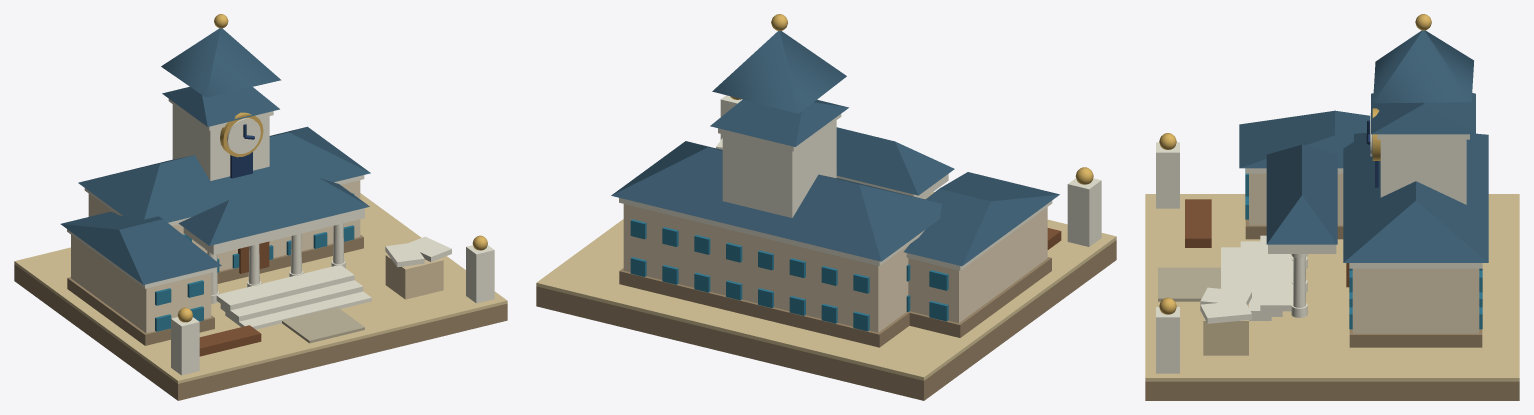
The model's file is university-lv2.glb.
3 renders of one model, left to right at view 1: azimuth 30°, elevation 25°; view 2: azimuth 150°, elevation 25°; view 3: azimuth 270°, elevation 25°, orthographic. The views are drawn at different scales.
Visible parts, largest first — view 1: foundation_sand, lecture_hall_roof_roof, foundation_stoneDark, portico_pediment_roof, library_wing_roof_roof, entrance_steps_white, library_wing_cream, tower_cap_roof, clock_tower_white, campus_gate_white, clock_tower_roof_roof, book_plinth_stone (+15 smaller); view 2: foundation_sand, lecture_hall_roof_roof, lecture_hall_cream, foundation_stoneDark, clock_tower_white, library_wing_roof_roof, library_wing_cream, tower_cap_roof, portico_pediment_roof, lecture_hall_windows_glass, lecture_hall_stoneDark, clock_tower_roof_roof (+5 smaller); view 3: foundation_sand, lecture_hall_roof_roof, lecture_hall_cream, foundation_stoneDark, portico_pediment_roof, tower_cap_roof, clock_tower_white, library_wing_roof_roof, entrance_steps_white, clock_tower_roof_roof, campus_gate_white, lecture_hall_stoneDark (+11 smaller).
Boxes of the visible parts, x1,y1,x2,y2 form: foundation_sand: (14, 193, 507, 383); lecture_hall_roof_roof: (78, 126, 370, 222); foundation_stoneDark: (14, 264, 507, 400); portico_pediment_roof: (178, 178, 369, 245); library_wing_roof_roof: (60, 212, 221, 284); entrance_steps_white: (216, 265, 371, 329); library_wing_cream: (71, 235, 211, 333); tower_cap_roof: (161, 28, 281, 97); clock_tower_white: (168, 99, 273, 180); campus_gate_white: (171, 245, 494, 375); clock_tower_roof_roof: (162, 86, 279, 126); book_plinth_stone: (385, 254, 443, 299); foundation_sand: (536, 191, 1116, 380); lecture_hall_roof_roof: (611, 141, 941, 261); lecture_hall_cream: (623, 204, 909, 332); foundation_stoneDark: (536, 240, 1116, 400); clock_tower_white: (718, 114, 841, 217); library_wing_roof_roof: (904, 172, 1059, 266); library_wing_cream: (908, 207, 1047, 322); tower_cap_roof: (712, 31, 846, 113); portico_pediment_roof: (836, 127, 954, 195); lecture_hall_windows_glass: (630, 219, 869, 331); lecture_hall_stoneDark: (619, 268, 910, 347); clock_tower_roof_roof: (710, 99, 848, 146); foundation_sand: (1145, 194, 1519, 381); lecture_hall_roof_roof: (1343, 132, 1488, 262); lecture_hall_cream: (1352, 268, 1479, 333); foundation_stoneDark: (1145, 381, 1519, 400); portico_pediment_roof: (1266, 144, 1337, 244); tower_cap_roof: (1373, 30, 1473, 103); clock_tower_white: (1377, 134, 1469, 204); library_wing_roof_roof: (1239, 110, 1370, 168); entrance_steps_white: (1221, 235, 1293, 320); clock_tower_roof_roof: (1371, 93, 1475, 134); campus_gate_white: (1156, 142, 1179, 373); lecture_hall_stoneDark: (1349, 329, 1482, 347).
Bounding box in the file's own units: 1 × 0.7459 × 0.8605.
